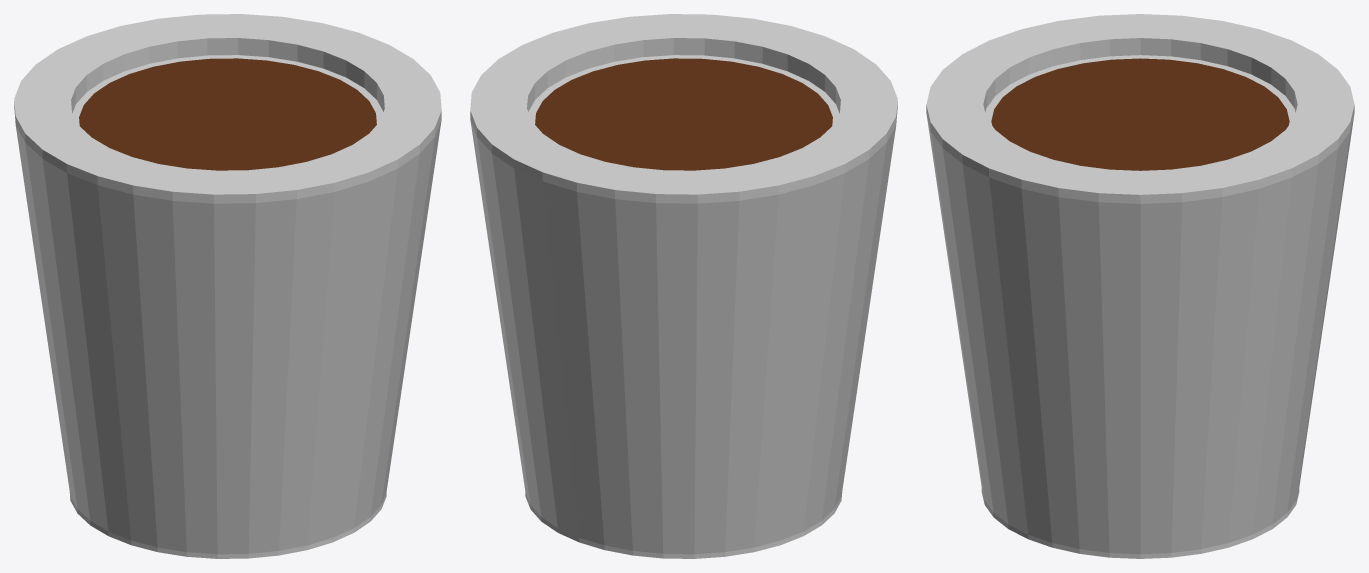
File: TestCoffeeCup.glb
3 views of the same model, side by side, from view 1: azimuth 30°, elevation 25°; view 2: azimuth 150°, elevation 25°; view 3: azimuth 270°, elevation 25° (orthographic).
Parts seen in each view (by area): view 1: Cylinder; view 2: Cylinder; view 3: Cylinder.
Boxes of the visible parts, bbox=[...] form: Cylinder: bbox=[14, 14, 441, 558]; Cylinder: bbox=[470, 14, 897, 558]; Cylinder: bbox=[926, 14, 1354, 558].
Size of the model in its own units: 2 by 2 by 2.
